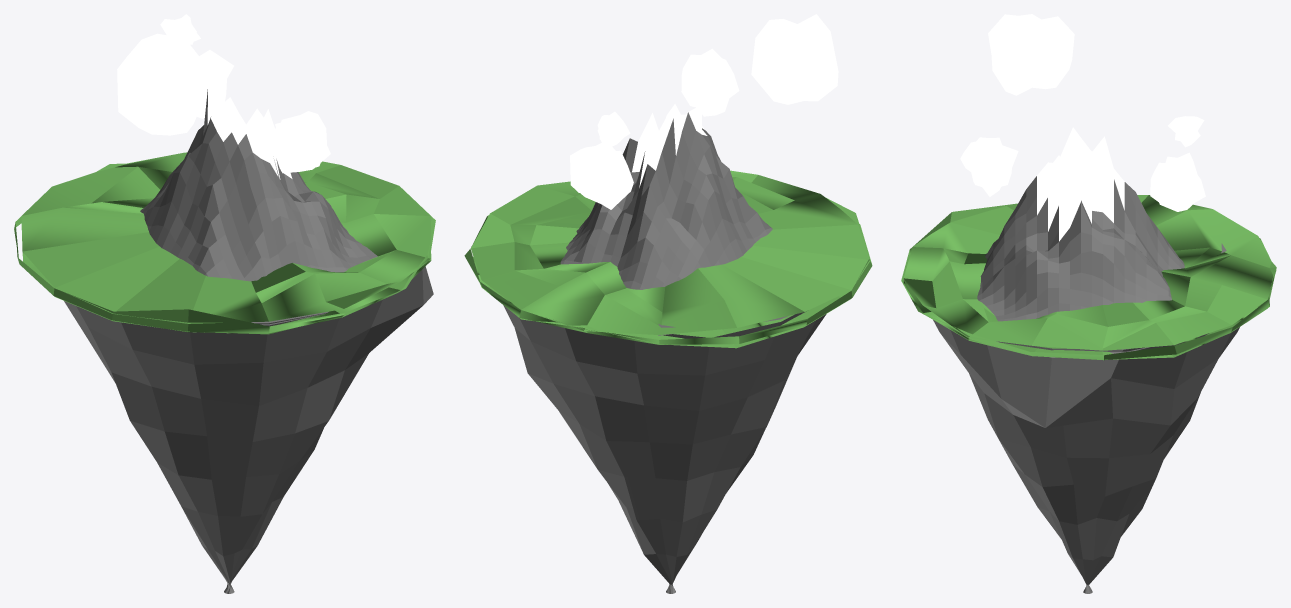
The model's file is island_4.glb.
3 renders of one model, left to right at view 1: azimuth 30°, elevation 25°; view 2: azimuth 150°, elevation 25°; view 3: azimuth 270°, elevation 25°, orthographic. The views are drawn at different scales.
Parts seen in each view (by area): view 1: Cone_2, Cylinder_2, Landscape, cloud_0, Sphere, cloud_1, cloud_2; view 2: Cone_2, Cylinder_2, Landscape, cloud_0, cloud_1, Sphere, cloud_2; view 3: Cone_2, Cylinder_2, Landscape, cloud_0, cloud_1, Sphere, cloud_2.
Boxes of the visible parts, x1,y1,x2,y2 form: Cone_2: (64,266,433,593); Cylinder_2: (14,152,435,334); Landscape: (140,87,377,281); cloud_0: (117,33,207,135); Sphere: (274,111,330,173); cloud_1: (197,50,233,119); cloud_2: (160,14,200,44); Cone_2: (503,305,826,593); Cylinder_2: (464,170,872,348); Landscape: (560,104,772,289); cloud_0: (751,14,838,104); cloud_1: (570,143,633,209); Sphere: (681,48,739,116); cloud_2: (597,111,630,147); Cone_2: (933,243,1239,593); Cylinder_2: (901,195,1276,360); Landscape: (977,127,1184,321); cloud_0: (988,14,1074,95); cloud_1: (1150,152,1205,211); Sphere: (960,137,1018,196); cloud_2: (1168,116,1204,147).
Size of the model in its own units: 2.18 by 3.38 by 2.17.
